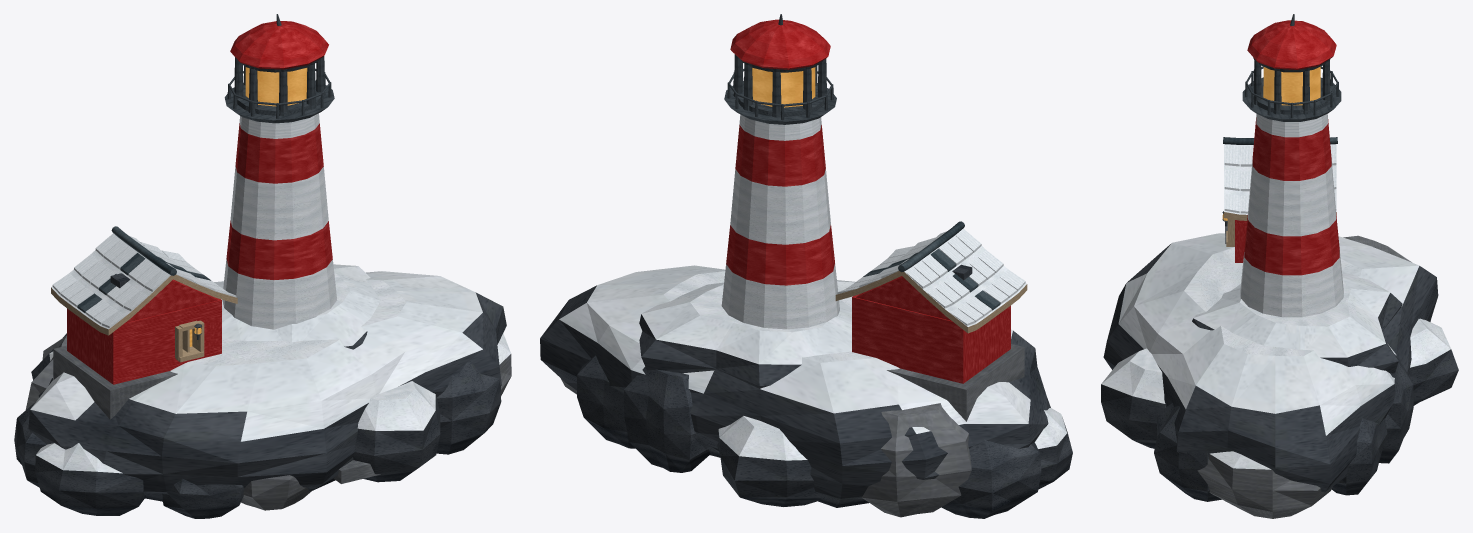
File: nordic_lighthouse_skerry_mid.glb
The picture shows the model from 3 angles, left to right: view 1: azimuth 30°, elevation 25°; view 2: azimuth 150°, elevation 25°; view 3: azimuth 270°, elevation 25°; orthographic projection. The views are drawn at different scales.
Visible parts, largest first — view 1: nordic_lighthouse_skerry_mid; view 2: nordic_lighthouse_skerry_mid; view 3: nordic_lighthouse_skerry_mid.
Boxes of the visible parts, box(x1,y1,x2,y2) form: nordic_lighthouse_skerry_mid: box(14, 14, 511, 518); nordic_lighthouse_skerry_mid: box(540, 14, 1072, 518); nordic_lighthouse_skerry_mid: box(1101, 14, 1458, 518).
Bounding box in the file's own units: 18 × 15.5 × 12.
2 materials, 2 textured.
